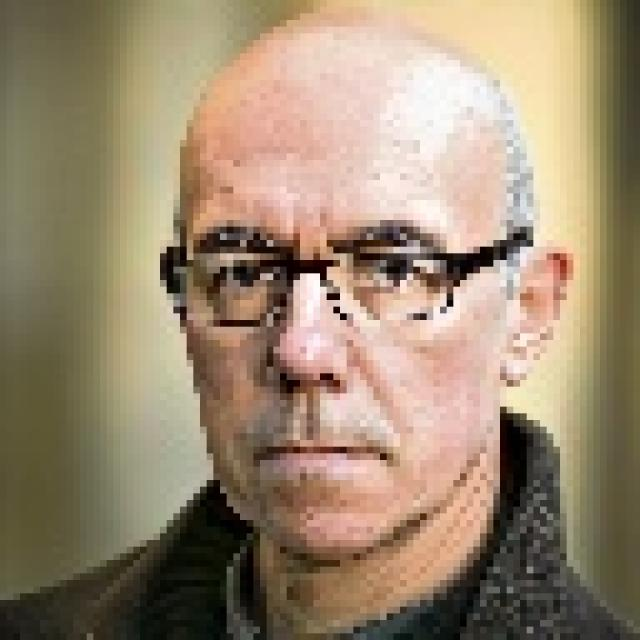angry: (151, 49, 528, 584)
